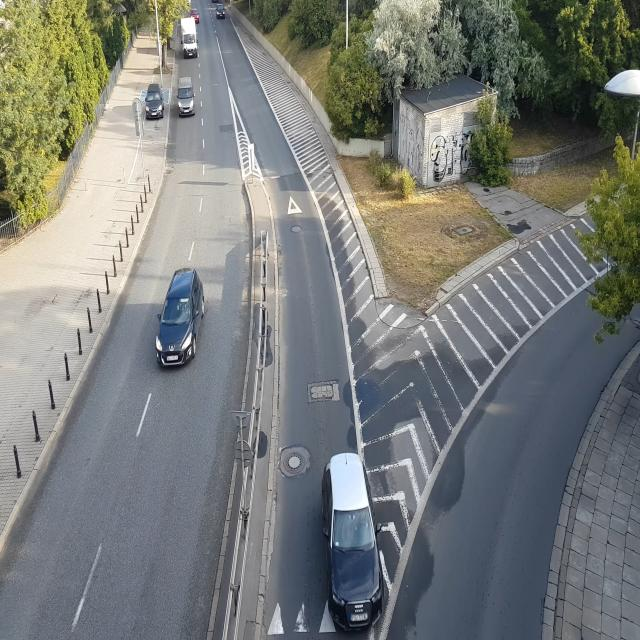car: (316, 448, 390, 630), (153, 262, 212, 370), (174, 66, 199, 124), (142, 81, 166, 122), (179, 19, 199, 58), (190, 6, 202, 27), (214, 4, 229, 20)
